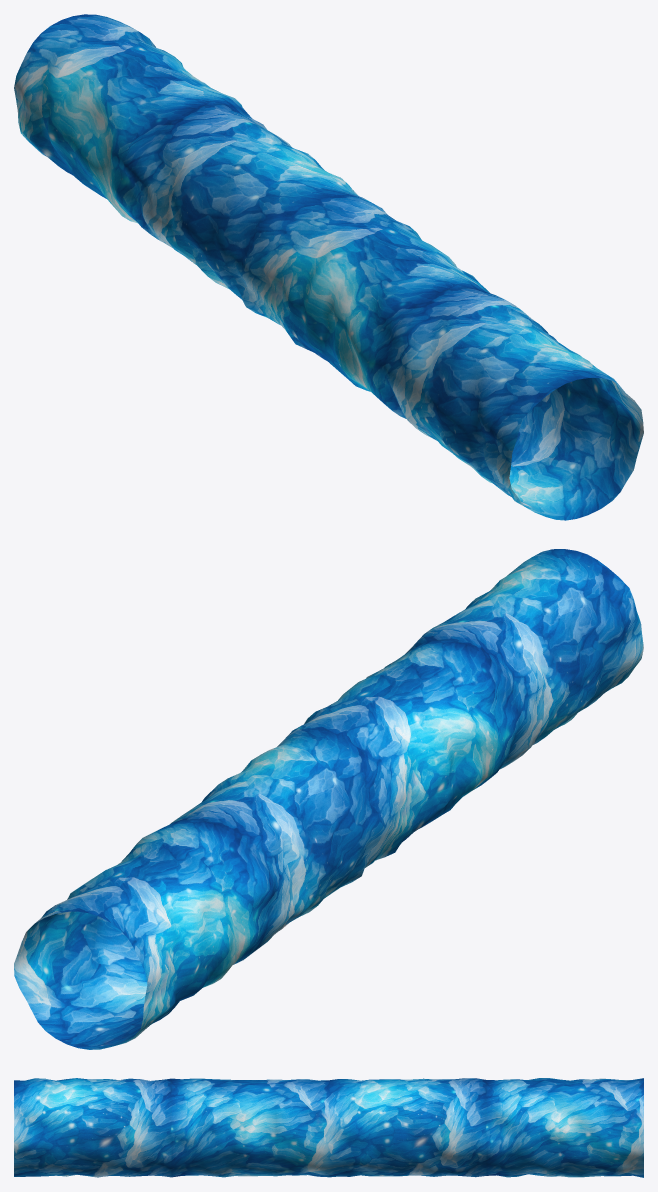
File: cave.fbx
The picture shows the model from 3 angles, top to bottom: view 1: azimuth 30°, elevation 25°; view 2: azimuth 150°, elevation 25°; view 3: azimuth 270°, elevation 25°; orthographic projection. The views are drawn at different scales.
Visible parts, largest first — view 1: cave; view 2: cave; view 3: cave.
Boxes of the visible parts, left/top/right/bottom form: cave: left=14, top=14, right=643, bottom=520; cave: left=14, top=549, right=643, bottom=1049; cave: left=14, top=1078, right=643, bottom=1177.
Size of the model in its own units: 5453 by 5000 by 32500.
